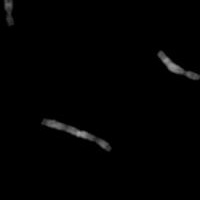chromosome: (40, 118, 111, 151), (157, 50, 200, 80), (4, 0, 15, 26)
